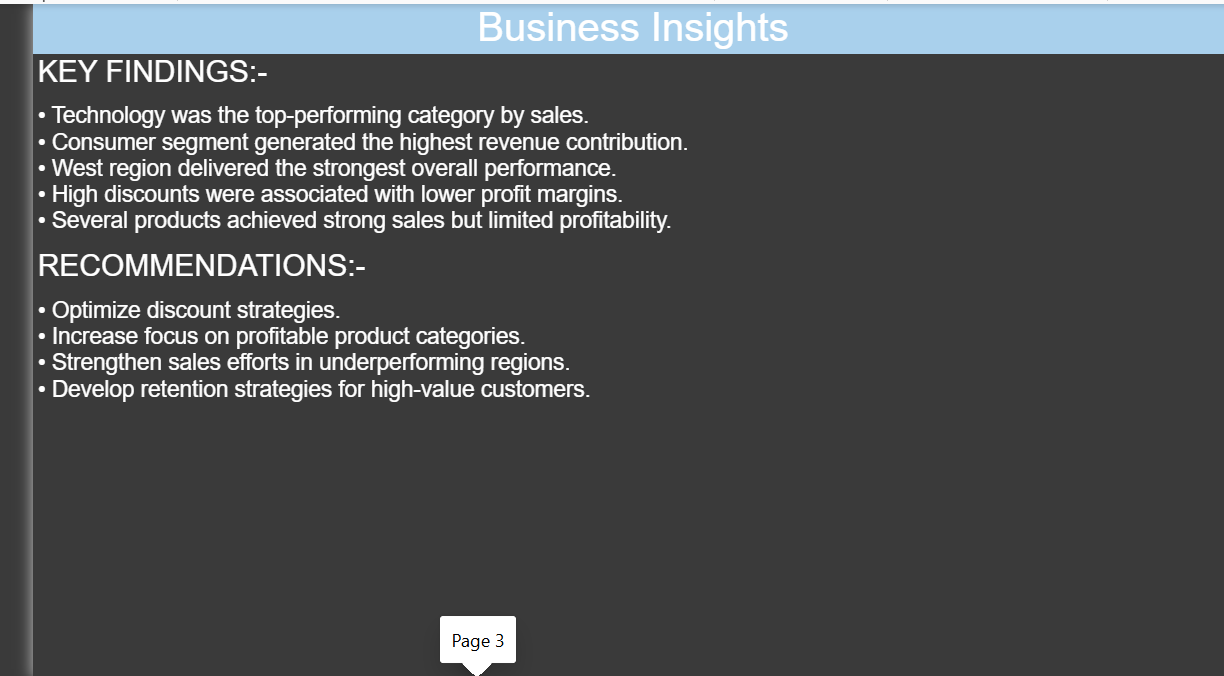

What the dashboard file says about the page in this screenshot:
{"tool":"powerbi","page":{"name":"Page 3","canvas":[1280,720],"ordinal":2},"visuals":[{"type":"textbox","title":"Business Insights  ","box":[0,0,1280,720],"z":0}]}

Visuals, with their boxes in screenshot pixels (x1, y1, x2, y2), scaled from the page's 1280x720 canvas onto the 1224x676 screenshot:
"Business Insights  " textbox: x1=0, y1=0, x2=1223, y2=675
